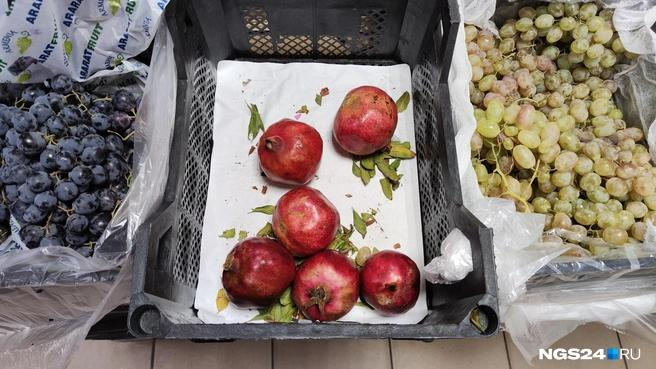grapes: (464, 0, 655, 255), (0, 73, 139, 256)
pomegranate: (226, 89, 414, 314)
